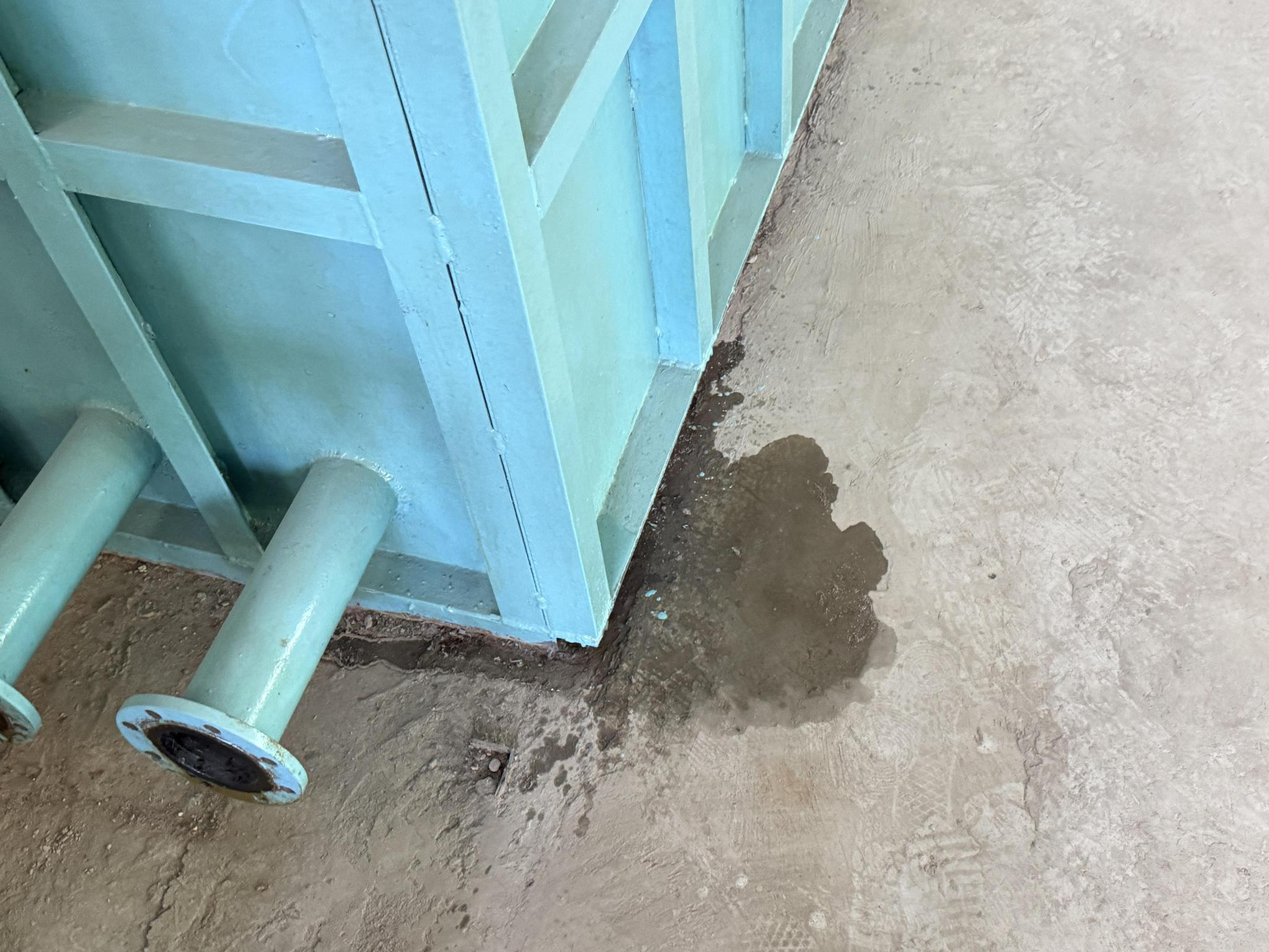water accumulation: (330, 338, 896, 749)
